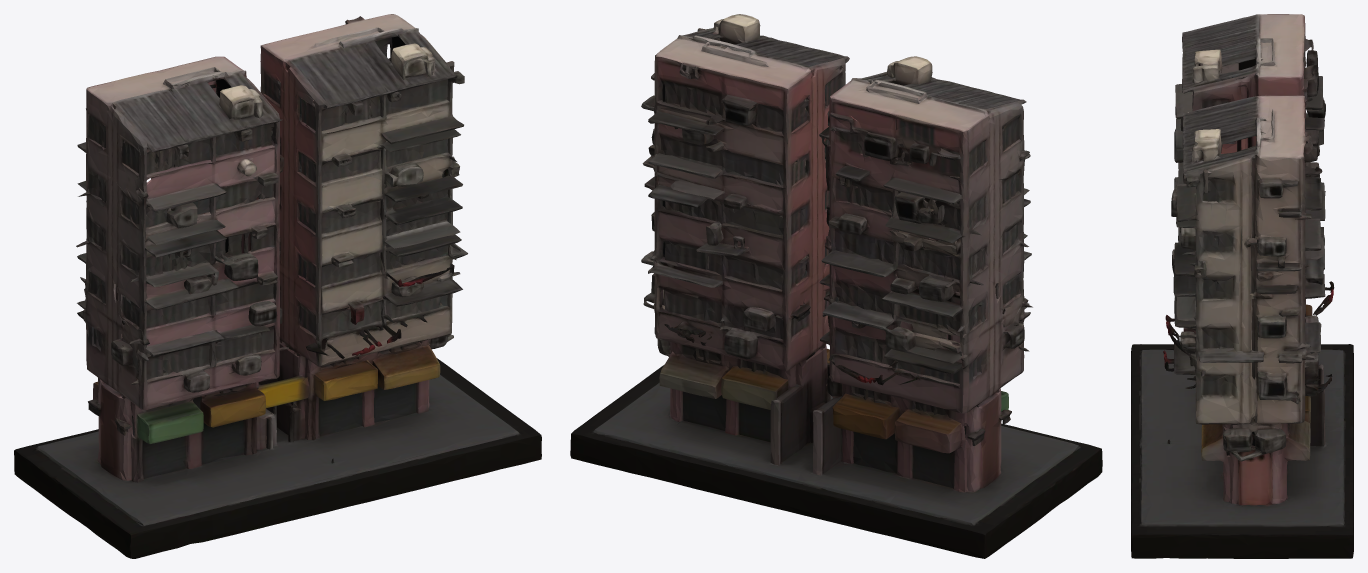
The model's file is city-shophouses.web.glb.
The picture shows the model from 3 angles, left to right: view 1: azimuth 30°, elevation 25°; view 2: azimuth 150°, elevation 25°; view 3: azimuth 270°, elevation 25°; orthographic projection. The views are drawn at different scales.
Size of the model in its own units: 1 by 0.9388 by 0.4947.
Materials: 1 (1 with a texture image).
